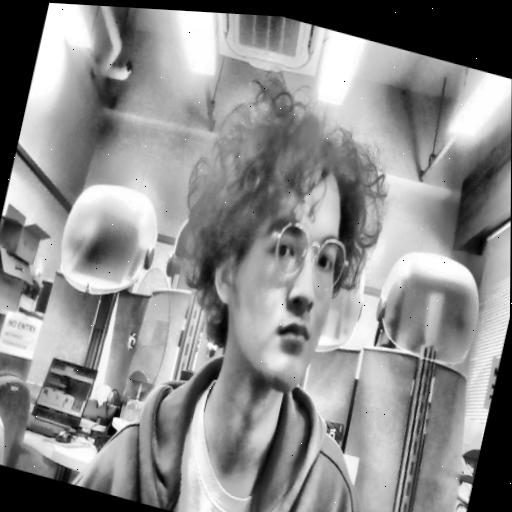Daifuku: (155, 80, 380, 397)
